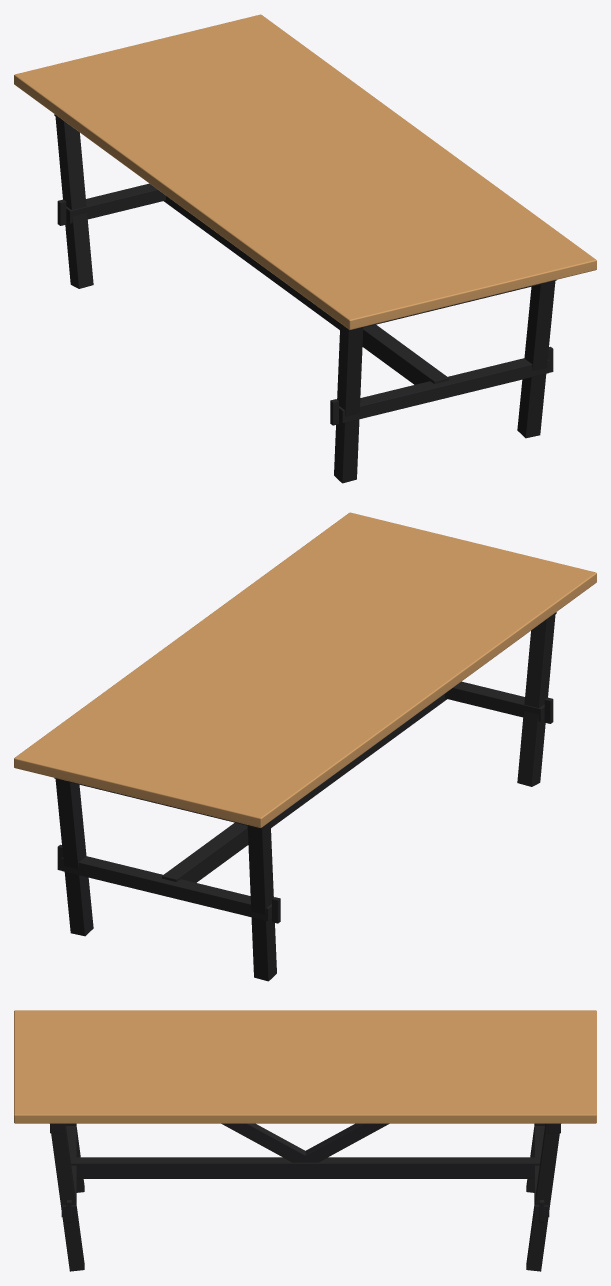
The model's file is table.glb.
The picture shows the model from 3 angles, top to bottom: view 1: azimuth 30°, elevation 25°; view 2: azimuth 150°, elevation 25°; view 3: azimuth 270°, elevation 25°; orthographic projection. The views are drawn at different scales.
Visible parts, largest first — view 1: TableTop, TableRail0, TableLeg10, TableStretcher, TableLeg01, TableLeg00, TableRail1; view 2: TableTop, TableRail1, TableLeg00, TableStretcher, TableLeg11, TableLeg10, TableRail0; view 3: TableTop, TableStretcher, TableLeg01, TableLeg11, TableBrace0, TableBrace1, TableRail0, TableRail1.
Boxes of the visible parts, box(x1,y1,x2,y2) form: TableTop: box(14, 14, 596, 329); TableRail0: box(339, 358, 549, 423); TableLeg10: box(55, 117, 93, 288); TableStretcher: box(164, 196, 448, 384); TableLeg01: box(517, 281, 555, 438); TableLeg00: box(334, 323, 363, 483); TableRail1: box(66, 183, 165, 223); TableTop: box(14, 512, 596, 827); TableRail1: box(61, 856, 271, 921); TableLeg00: box(517, 615, 555, 786); TableStretcher: box(162, 694, 446, 882); TableLeg11: box(55, 779, 93, 936); TableLeg10: box(247, 821, 276, 981); TableRail0: box(445, 681, 544, 721); TableTop: box(14, 1010, 596, 1123); TableStretcher: box(70, 1157, 540, 1178); TableLeg01: box(51, 1123, 84, 1271); TableLeg11: box(526, 1123, 559, 1271); TableBrace0: box(221, 1123, 306, 1162); TableBrace1: box(305, 1123, 389, 1162); TableRail0: box(61, 1123, 76, 1217); TableRail1: box(534, 1123, 549, 1217).
Size of the model in its own units: 2.22 by 1.65 by 5.22.
